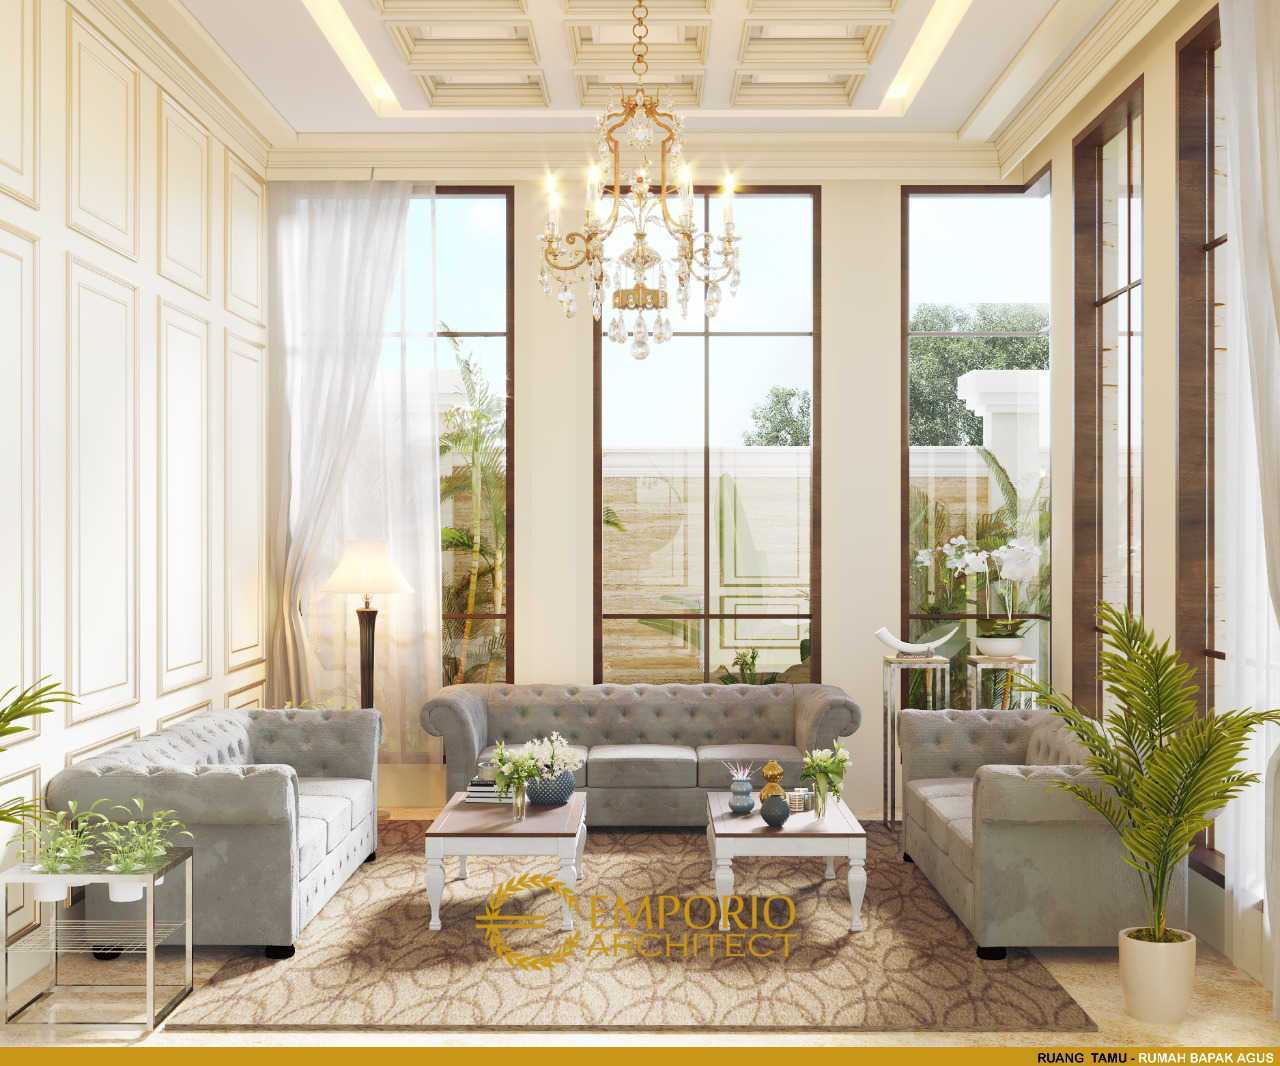buku: (464, 778, 520, 806)
gelas: (789, 791, 806, 816)
lampu: (320, 534, 415, 699)
meja: (1, 848, 214, 1020), (416, 782, 591, 937), (703, 784, 880, 936)
sova: (53, 706, 387, 961), (416, 672, 862, 784), (903, 694, 1074, 947)
tanaman: (1073, 616, 1217, 1035), (20, 795, 151, 901), (520, 735, 578, 812), (801, 743, 849, 809)
